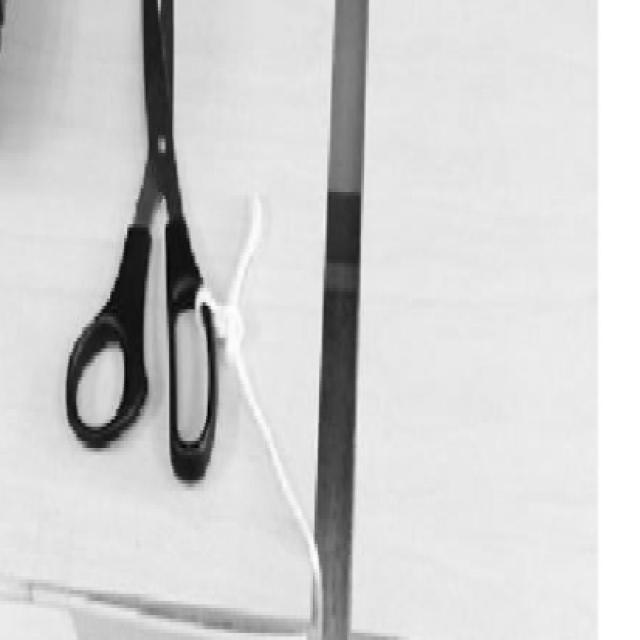tesoura: (66, 0, 217, 478)
